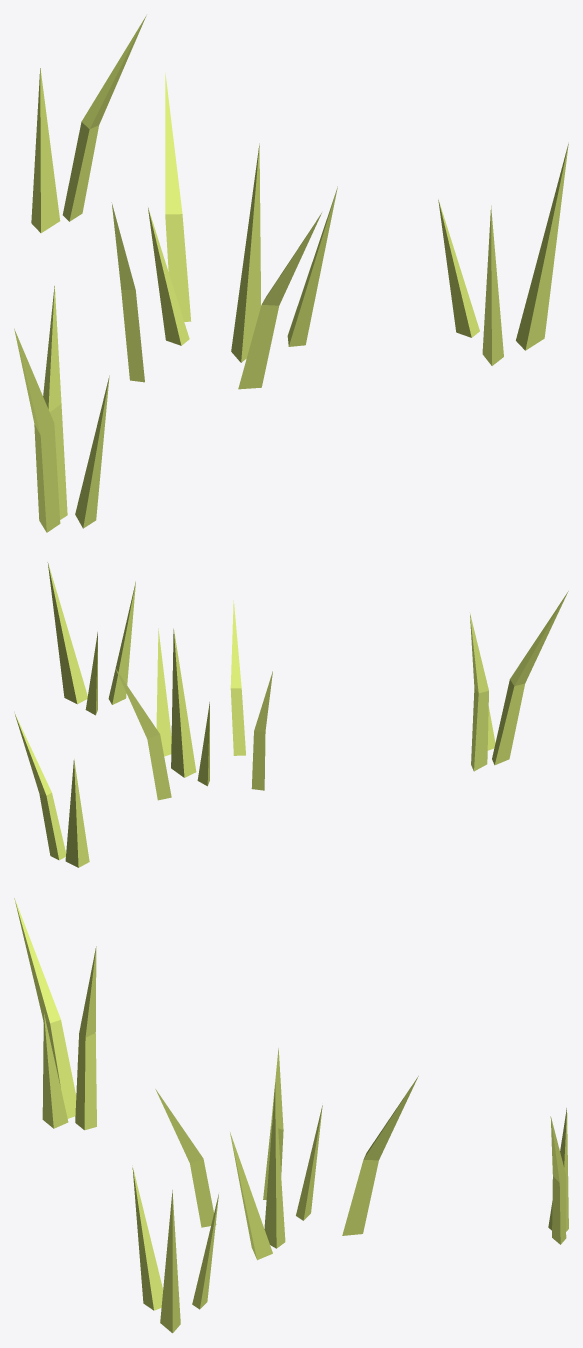
The model's file is Grass_A.fbx.
3 renders of one model, top to bottom at view 1: azimuth 30°, elevation 25°; view 2: azimuth 150°, elevation 25°; view 3: azimuth 270°, elevation 25°, orthographic. The views are drawn at different scales.
Parts seen in each view (by area): view 1: Grass3D_a_08; view 2: Grass3D_a_08; view 3: Grass3D_a_08.
Part boxes in pixels (left/top/right/bottom): Grass3D_a_08: left=14, top=15, right=568, bottom=532; Grass3D_a_08: left=14, top=562, right=568, bottom=867; Grass3D_a_08: left=14, top=898, right=568, bottom=1333.
Size of the model in its own units: 166 by 59.36 by 152.
